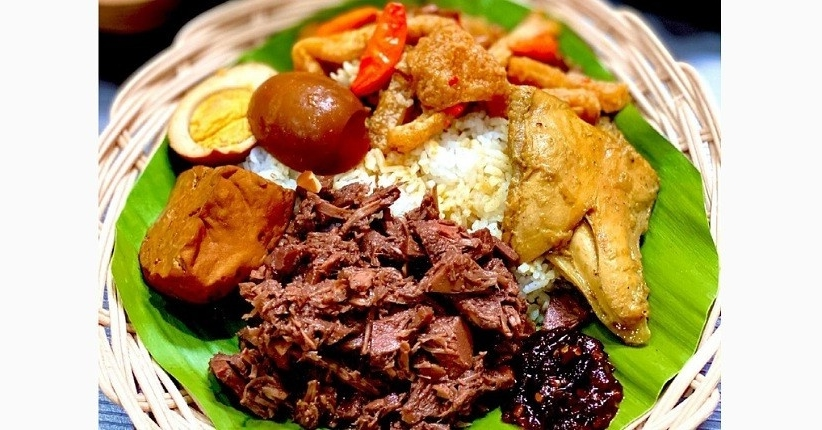gudeg: (141, 15, 659, 430)
